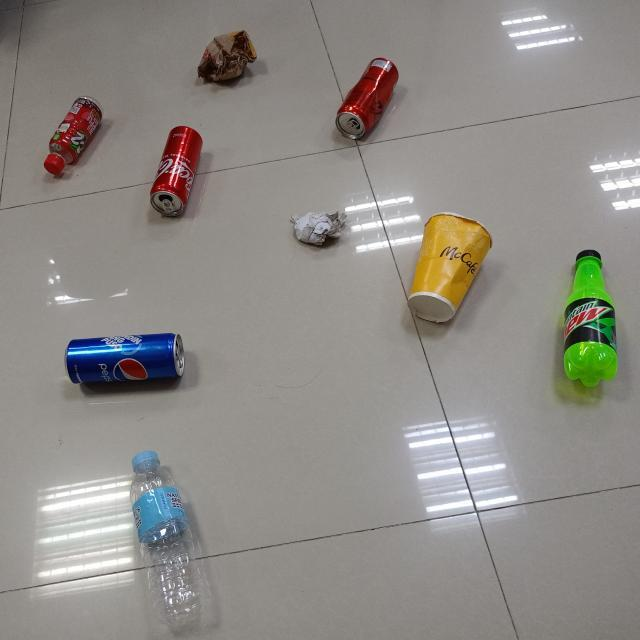recyclable waste: (126, 444, 220, 632), (403, 210, 497, 326), (558, 244, 624, 391), (59, 327, 191, 392), (329, 51, 404, 143), (146, 120, 208, 222), (40, 90, 108, 182), (194, 23, 260, 90), (288, 206, 349, 249)
